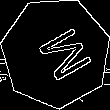M_SW: (23, 21, 89, 85)
